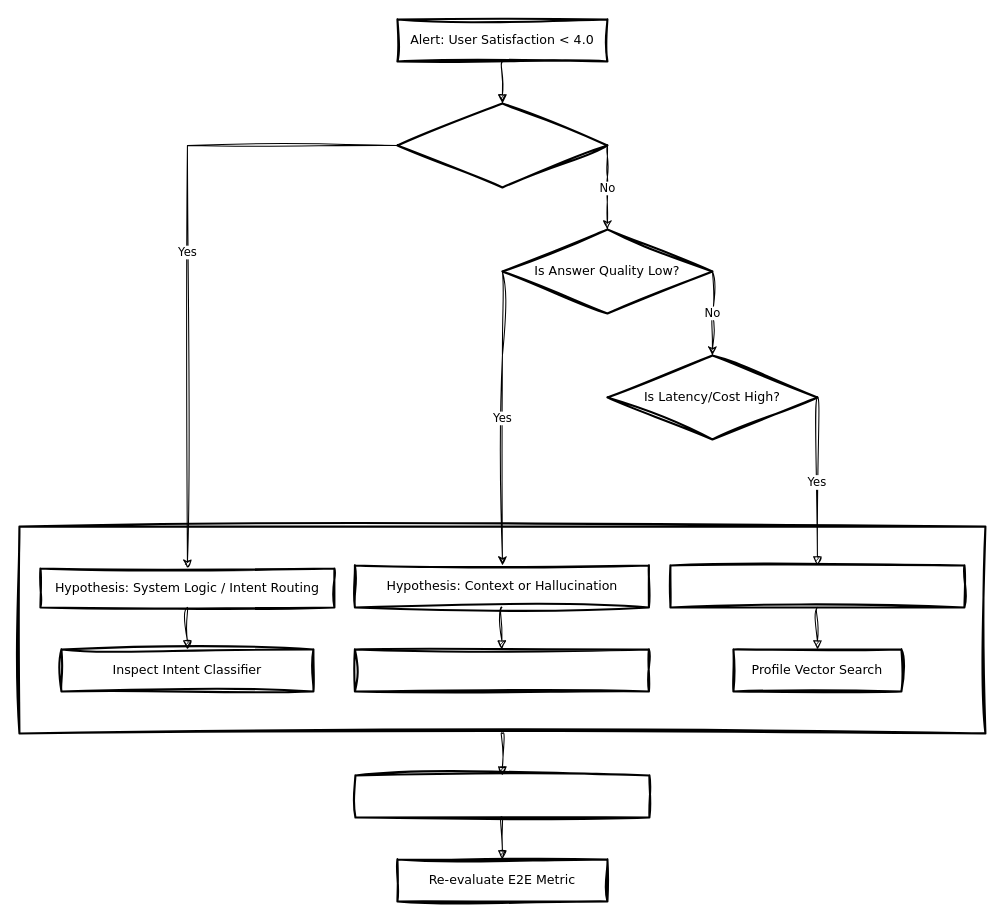
Image size: 1004x920. Some labels were removed from this diagram. The shapes that lost their labels are listed below. From the top down, each one's centre as x and y in pixels, then its label:
At (x=502, y=145): "Is Task Success Low?".
At (x=817, y=586): "Hypothesis: Retrieval Speed / Model Size".
At (x=501, y=670): "Check Retrieval Recall vs. LLM Adherence".
At (x=502, y=796): "Optimize Specific Component".
